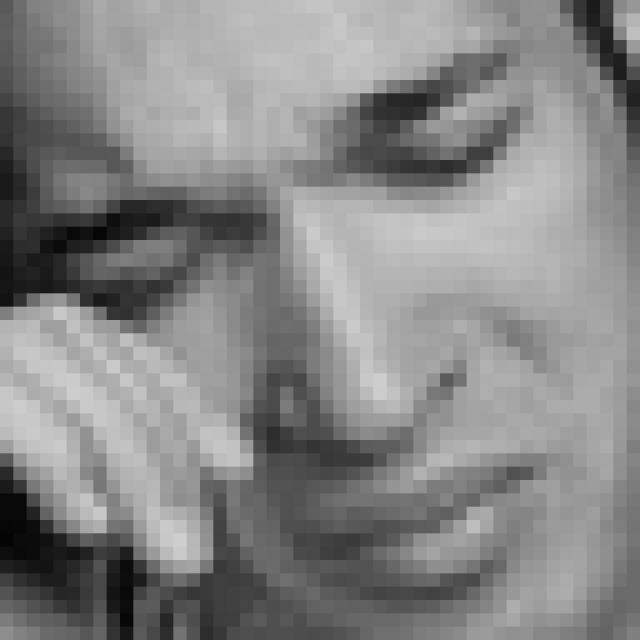sad: (45, 39, 594, 607)
